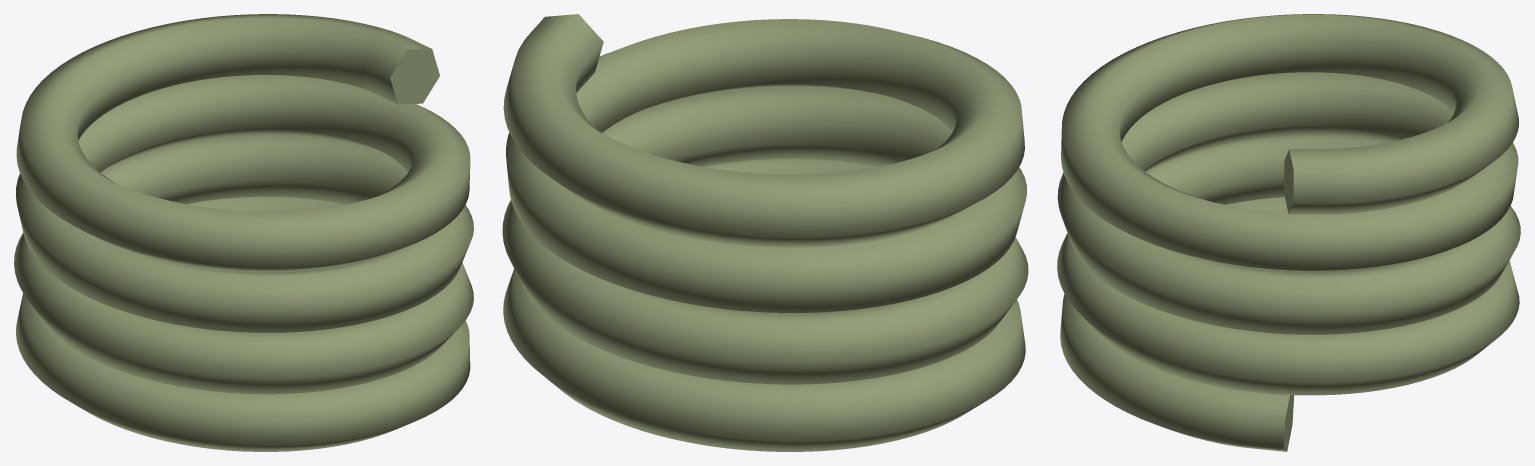
File: primitive-crafting-workshop-leather-lacing-c1415774__21566.glb
3 views of the same model, side by side, from view 1: azimuth 30°, elevation 25°; view 2: azimuth 150°, elevation 25°; view 3: azimuth 270°, elevation 25° (orthographic). The views are drawn at different scales.
Parts seen in each view (by area): view 1: leather-lacing; view 2: leather-lacing; view 3: leather-lacing.
Part boxes in pixels (x1,y1,x2,y2): leather-lacing: (14, 14, 473, 451); leather-lacing: (502, 14, 1028, 451); leather-lacing: (1057, 14, 1520, 451).
Bounding box in the file's own units: 0.2098 × 0.1494 × 0.2098.
